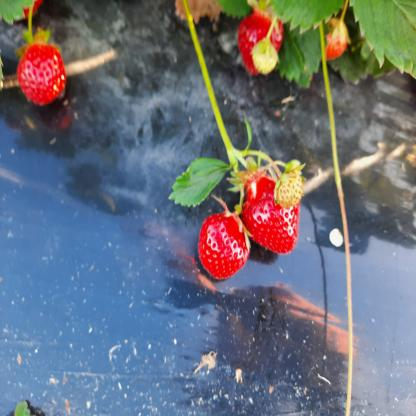ripe: (235, 174, 301, 252), (196, 213, 251, 278), (14, 44, 63, 107), (242, 11, 280, 74), (315, 20, 348, 58)
unripe: (251, 44, 279, 76), (275, 176, 303, 206)
